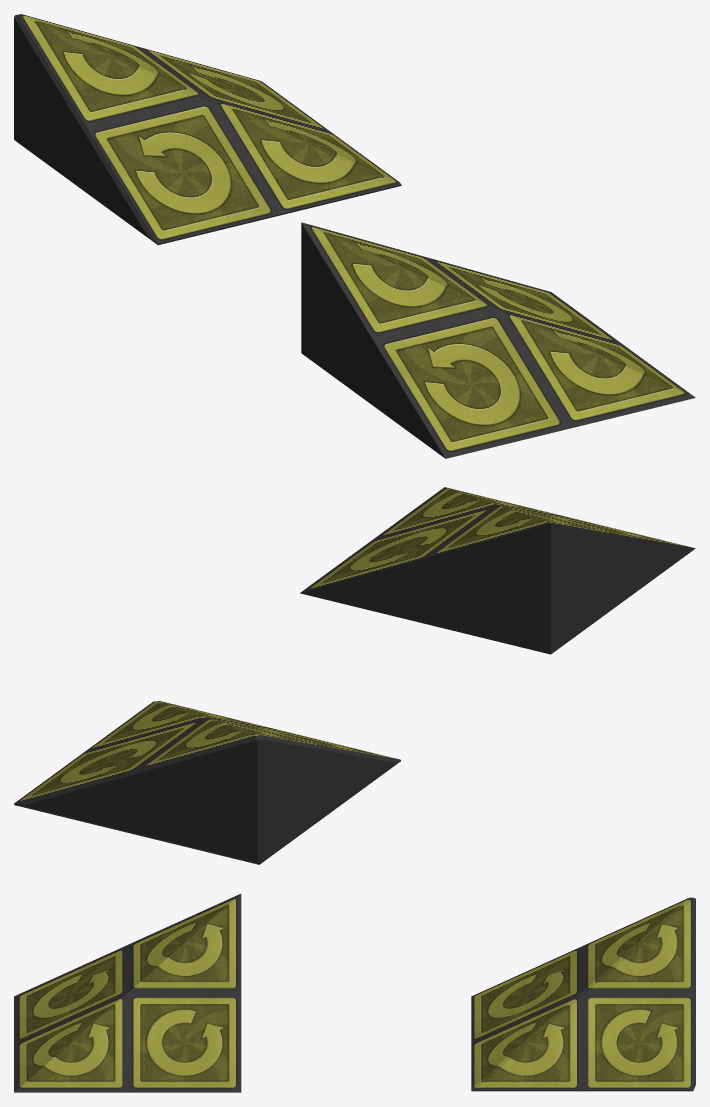
Rendered from slope.outsideCorner.2x2.fbx.
3 views of the same model, one above another, from view 1: azimuth 30°, elevation 25°; view 2: azimuth 150°, elevation 25°; view 3: azimuth 270°, elevation 25° (orthographic). The views are drawn at different scales.
Parts seen in each view (by area): view 1: MESH slope.outsideCorner.2x2, MESH slope.outsideCorner.2x2.c; view 2: MESH slope.outsideCorner.2x2, MESH slope.outsideCorner.2x2.c; view 3: MESH slope.outsideCorner.2x2, MESH slope.outsideCorner.2x2.c.
Boxes of the visible parts, left/top/right/bottom form: MESH slope.outsideCorner.2x2: left=301, top=222, right=695, bottom=458; MESH slope.outsideCorner.2x2.c: left=14, top=14, right=401, bottom=245; MESH slope.outsideCorner.2x2: left=300, top=487, right=695, bottom=654; MESH slope.outsideCorner.2x2.c: left=14, top=701, right=400, bottom=864; MESH slope.outsideCorner.2x2: left=14, top=893, right=241, bottom=1092; MESH slope.outsideCorner.2x2.c: left=471, top=897, right=695, bottom=1091.
Size of what is drawn, in the model's own units: 200 by 100 by 600.
